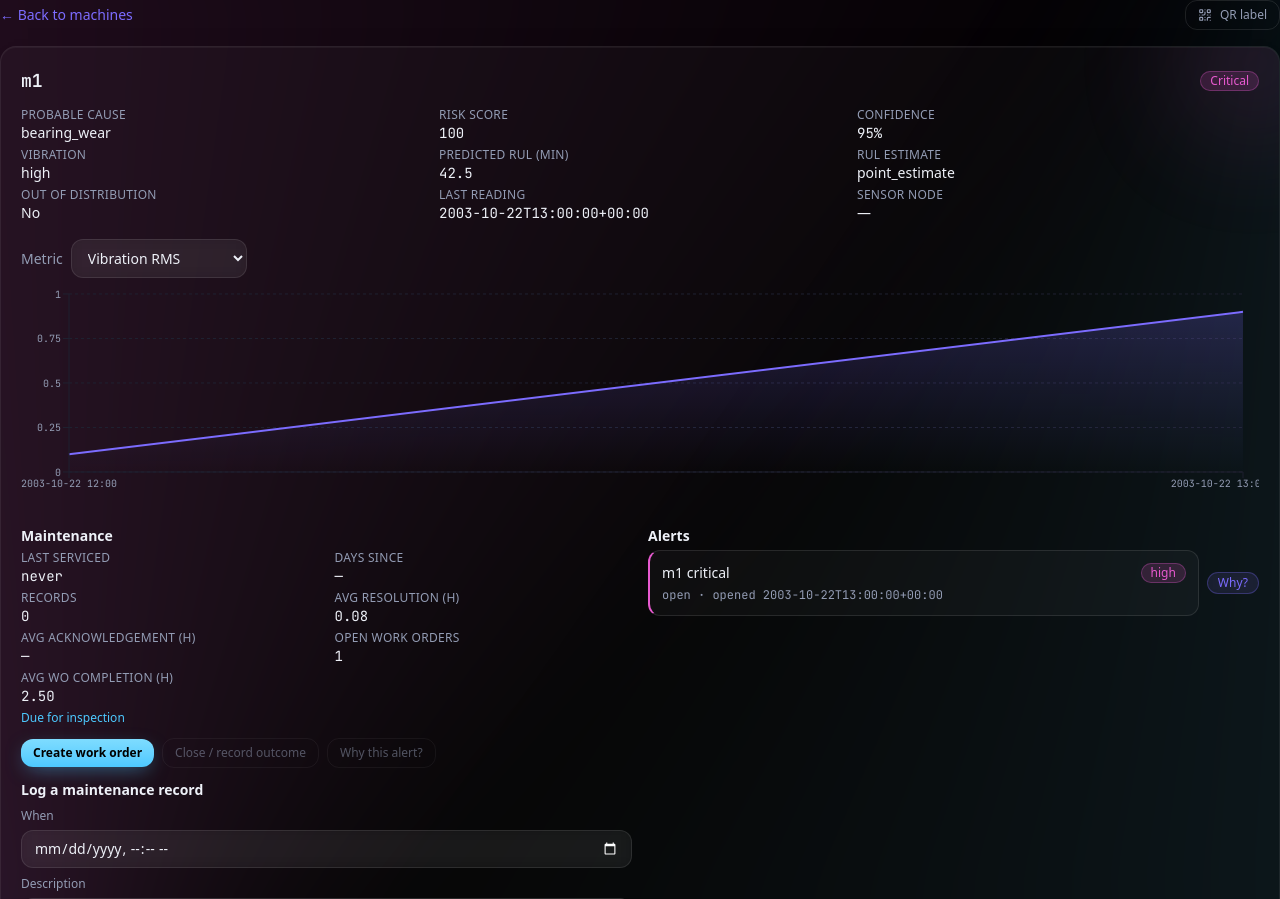
Test: MachineDetailPage › opens the panel from an alert row "Why?" button
Click the button with aria-label "Why this alert? Alert #2" at (1233, 583), box [1207, 572, 1259, 594]
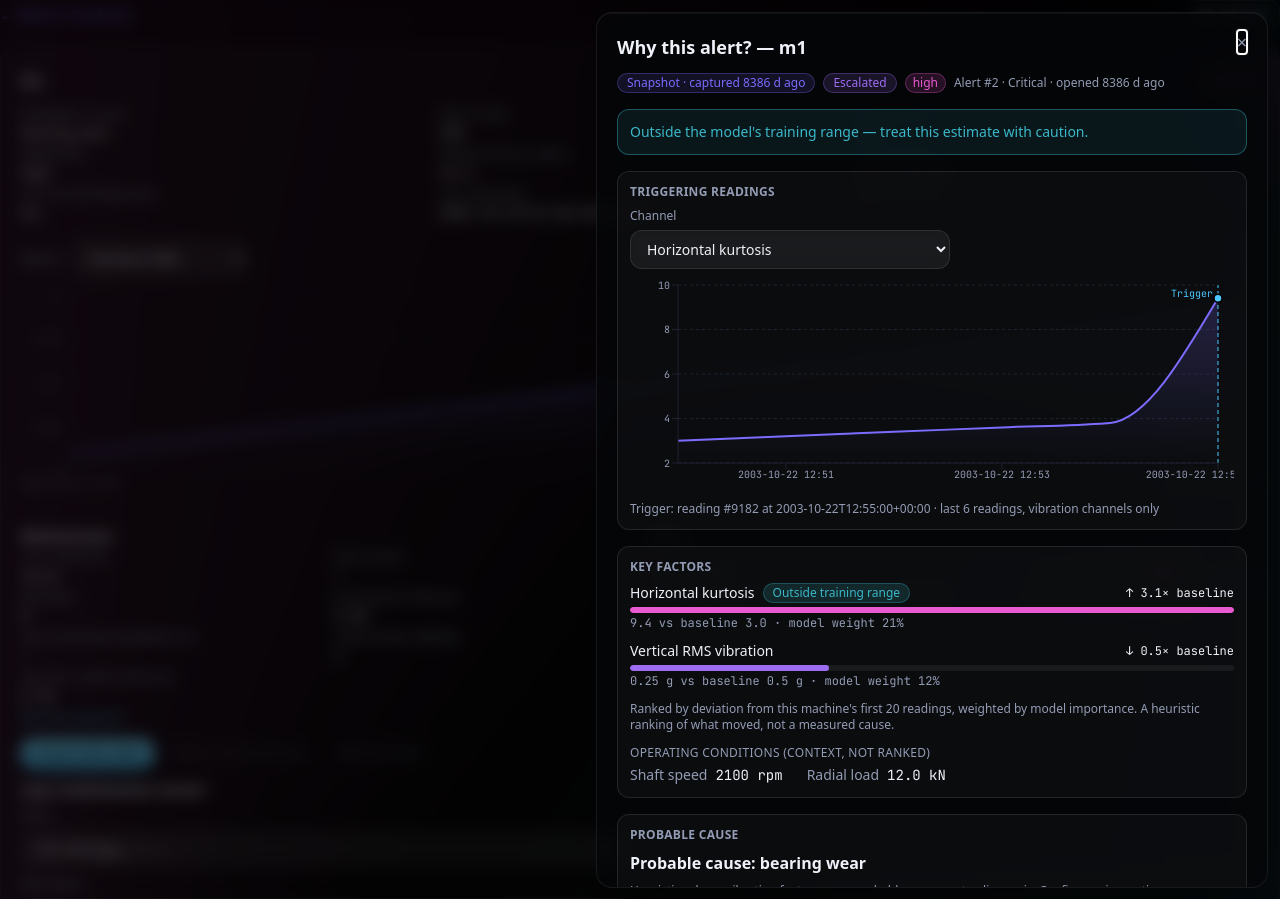
Expected: the dialog "Why this alert? — m1" is shown, [596, 12, 1268, 888]
